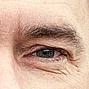eye: (37, 48, 53, 57)
